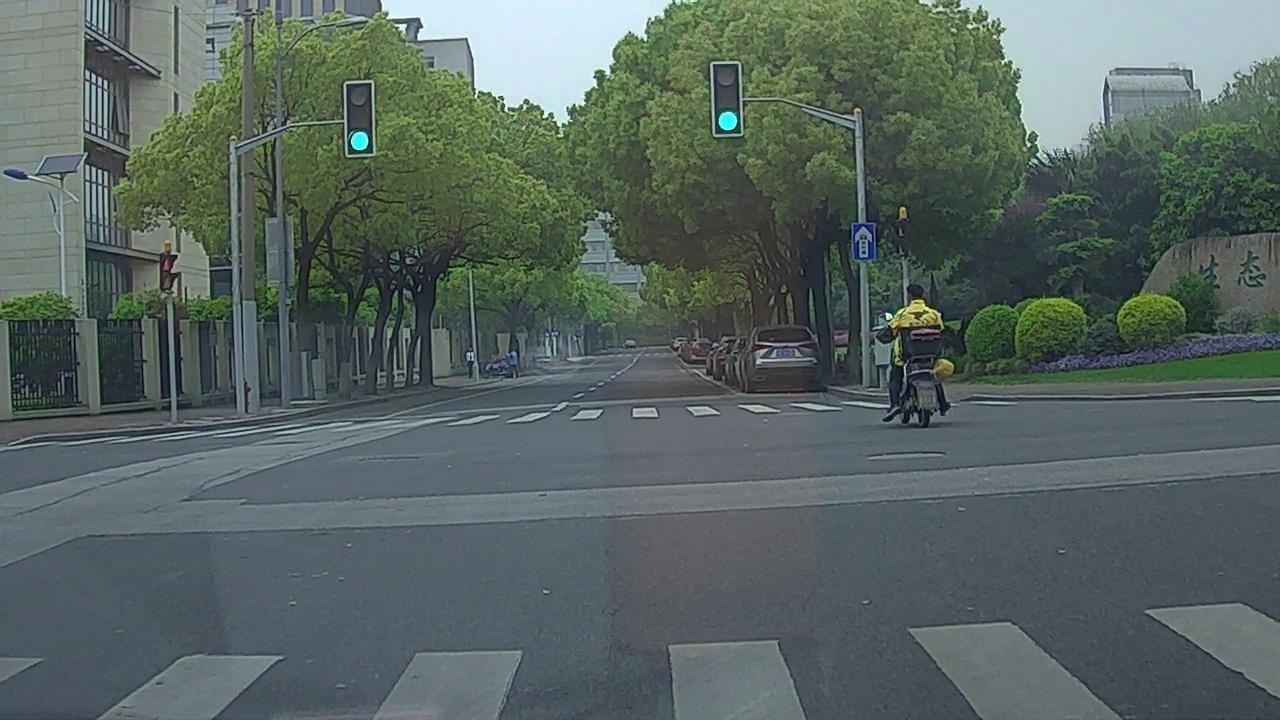traffic_light: (713, 64, 741, 133), (346, 83, 373, 154)
